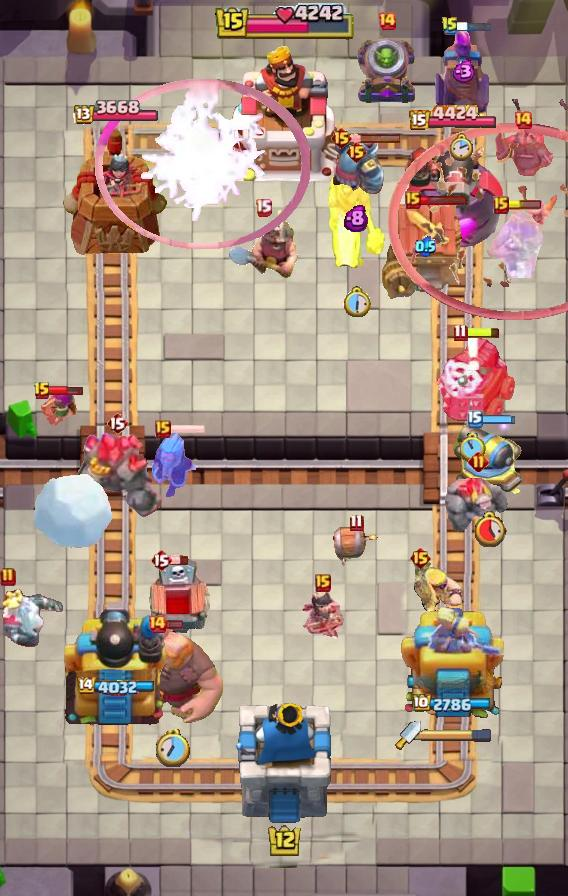arrows: (406, 558, 462, 611)
balloon: (119, 626, 227, 726)
bandit: (229, 208, 300, 280)
bar: (399, 607, 507, 731)
barbarian-evolution: (95, 78, 310, 250)
barbarian-hut: (476, 202, 550, 278)
battle-ram: (492, 129, 554, 177)
cannon: (31, 389, 79, 429)
cannoneer-tower: (72, 431, 162, 519)
clock: (214, 3, 354, 43)
electro-spirit: (344, 204, 368, 232), (448, 60, 475, 84), (415, 236, 437, 257)
elixir: (472, 510, 508, 547), (156, 729, 190, 767), (342, 286, 371, 318), (460, 434, 486, 462), (450, 134, 474, 163)
elixir-golem-mid: (143, 558, 213, 644)
elixir-golem-small: (329, 134, 385, 194)
emote: (350, 133, 402, 144), (418, 194, 468, 205), (457, 20, 494, 33), (465, 326, 501, 339), (170, 423, 207, 435), (48, 385, 83, 397), (481, 414, 516, 426), (506, 200, 542, 210), (170, 554, 189, 566), (164, 619, 184, 630)
freeze: (325, 159, 387, 271)
goblin-cage: (355, 36, 419, 106)
golem: (428, 332, 518, 424)
heal-spirit: (521, 193, 558, 231)
ice-spirit-evolution-symbol: (432, 29, 492, 121)
king-tower: (231, 43, 337, 181), (235, 703, 333, 826)
king-tower-bar: (421, 728, 493, 742)
knight: (331, 526, 381, 568)
mortar: (142, 429, 202, 501)
mortar-evolution: (0, 586, 66, 652)
queen-tower: (59, 128, 169, 256)
royal-recruit: (453, 417, 525, 501)
selected: (408, 103, 498, 132), (70, 100, 157, 127), (74, 677, 154, 697), (413, 694, 493, 714)
skeleton-barrel: (388, 98, 568, 322)
skeleton-dragon: (300, 588, 346, 646)
sparky: (382, 203, 468, 301)
text: (331, 126, 354, 150), (345, 140, 368, 164), (409, 546, 432, 570), (106, 411, 128, 435), (150, 548, 172, 572), (467, 451, 488, 473), (377, 11, 397, 31), (513, 110, 533, 130), (147, 614, 167, 634), (441, 16, 459, 36), (33, 381, 51, 401), (0, 567, 16, 587), (256, 199, 273, 217), (405, 191, 421, 209), (493, 196, 509, 214), (467, 410, 483, 428), (155, 420, 171, 438), (315, 574, 331, 592), (349, 512, 364, 531), (453, 323, 467, 342)
tower-bar: (58, 595, 170, 731), (401, 132, 508, 256)
valkyrie-evolution: (444, 472, 512, 532)
wall-breaker: (30, 472, 114, 550)
